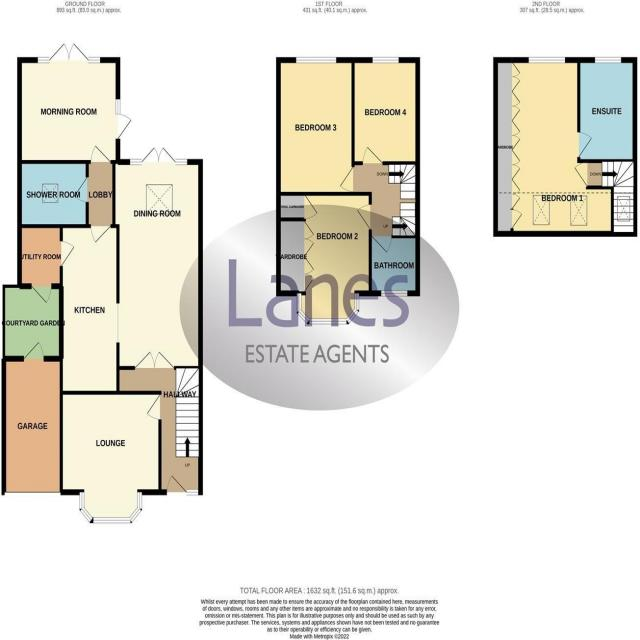DOOR: (145, 393, 162, 421), (59, 240, 76, 267), (356, 203, 372, 231), (339, 165, 355, 193), (362, 146, 384, 166), (90, 224, 112, 244), (577, 131, 593, 158), (371, 235, 392, 254), (574, 161, 589, 187)
DOUBLE DOOR: (48, 42, 91, 63), (134, 349, 177, 370), (140, 145, 176, 166)
ROOM: (59, 147, 203, 395), (17, 41, 133, 166), (59, 391, 162, 525), (276, 192, 372, 325), (276, 57, 355, 196), (351, 57, 420, 165)
WINDOW: (296, 292, 360, 325), (90, 491, 144, 524), (78, 489, 94, 525), (296, 57, 337, 64), (528, 57, 566, 64), (380, 290, 409, 297), (594, 57, 622, 64), (372, 57, 399, 64), (114, 96, 122, 115), (36, 55, 50, 65), (176, 158, 188, 167), (88, 57, 101, 65), (130, 158, 142, 166)
